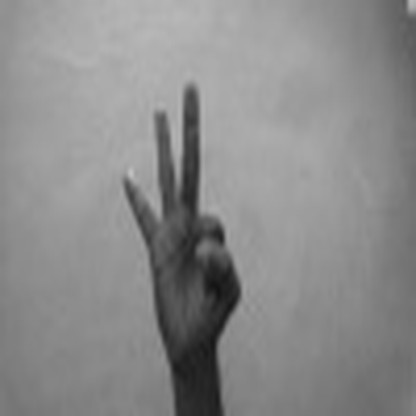f: (117, 73, 242, 355)
